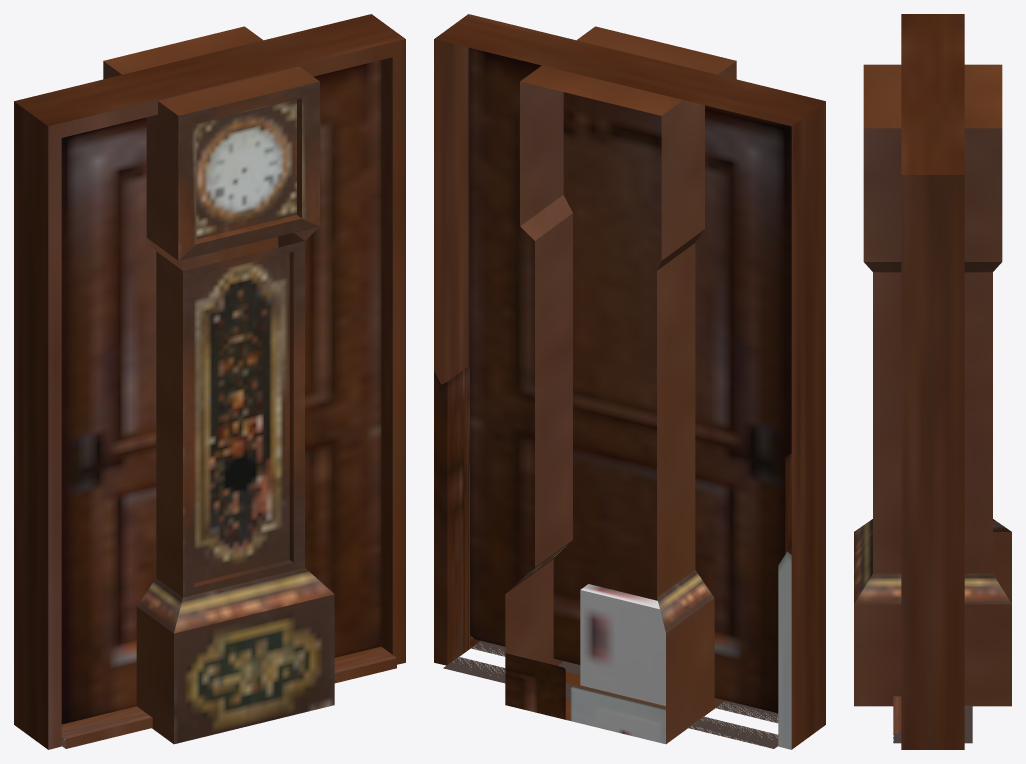
The model's file is props1.fbx.
The picture shows the model from 3 angles, left to right: view 1: azimuth 30°, elevation 25°; view 2: azimuth 150°, elevation 25°; view 3: azimuth 270°, elevation 25°; orthographic projection. The views are drawn at different scales.
Visible parts, largest first — view 1: door, grandfatherclock; view 2: door, grandfatherclock, lightswitch; view 3: grandfatherclock, door.
Boxes of the visible parts, <box> form: door: <box>14,14,405,749</box>; grandfatherclock: <box>103,26,334,744</box>; door: <box>434,14,825,749</box>; grandfatherclock: <box>505,26,736,744</box>; lightswitch: <box>580,584,665,705</box>; grandfatherclock: <box>854,64,1011,706</box>; door: <box>893,14,972,749</box>.
Size of the model in its own units: 1.2 by 0.4976 by 2.
